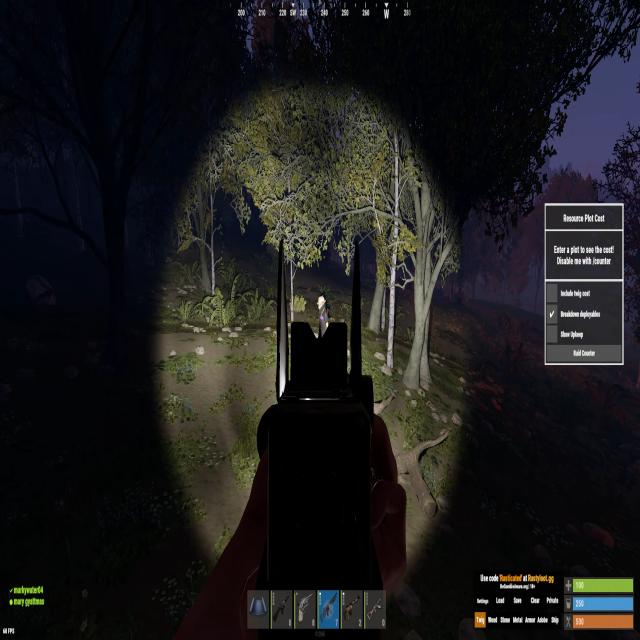Player: (316, 296, 329, 338)
